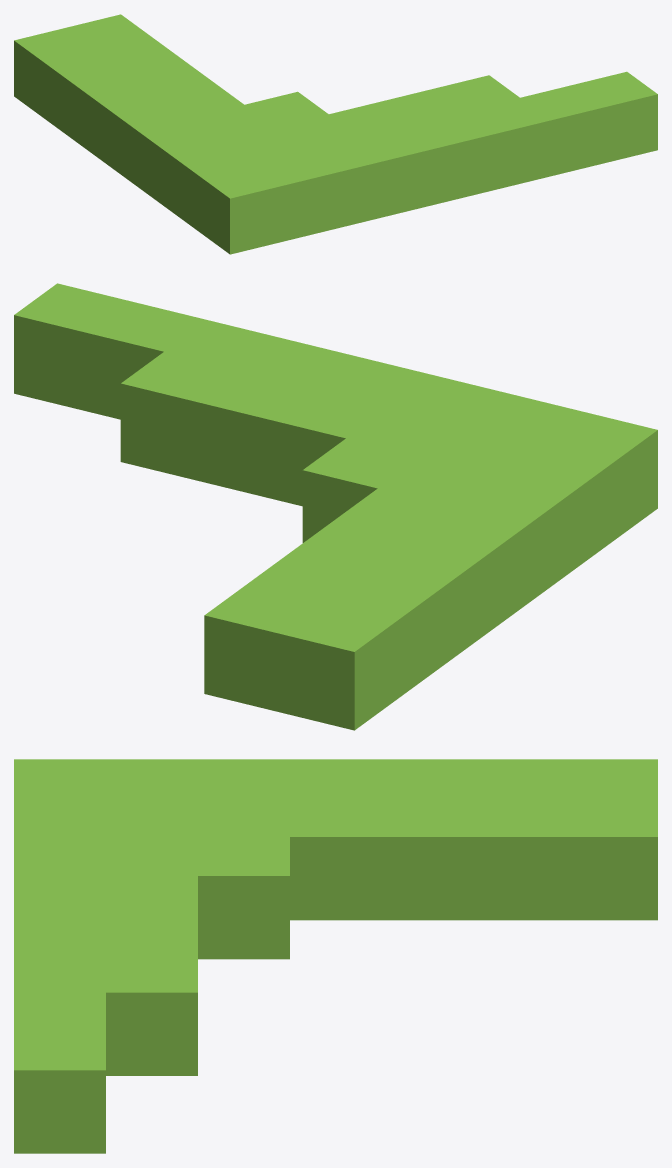
File: x_zem_0_4_1_mirror.fbx
3 renders of one model, top to bottom at view 1: azimuth 30°, elevation 25°; view 2: azimuth 150°, elevation 25°; view 3: azimuth 270°, elevation 25°, orthographic. The views are drawn at different scales.
Visible parts, largest first — view 1: x_zem_0_4_1_mirror1; view 2: x_zem_0_4_1_mirror1; view 3: x_zem_0_4_1_mirror1.
Boxes of the visible parts, box(x1,y1,x2,y2) form: x_zem_0_4_1_mirror1: box(14, 14, 657, 254); x_zem_0_4_1_mirror1: box(14, 283, 657, 730); x_zem_0_4_1_mirror1: box(14, 759, 657, 1153).
Bounding box in the file's own units: 8 × 1 × 7.
